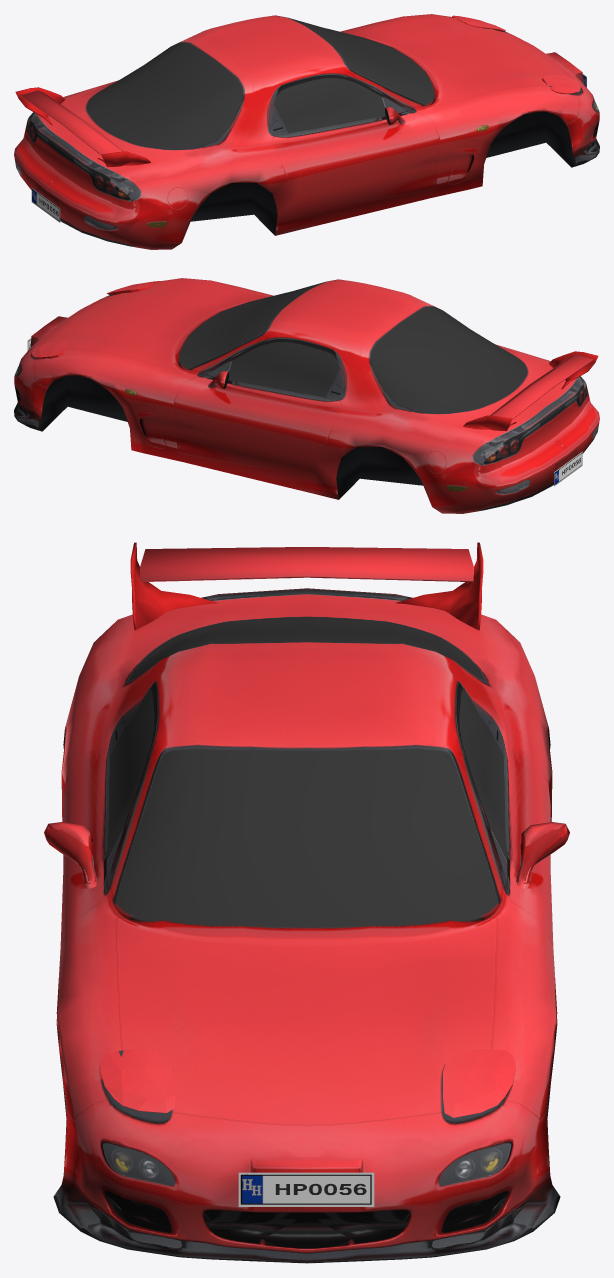
Rendered from car 12.fbx.
3 views of the same model, one above another, from view 1: azimuth 30°, elevation 25°; view 2: azimuth 150°, elevation 25°; view 3: azimuth 270°, elevation 25° (orthographic). The views are drawn at different scales.
Parts seen in each view (by area): view 1: body, font_light; view 2: body, fornt_light; view 3: body, fornt_light, font_light.
Part boxes in pixels (x1,y1,x2,y2): body: [14, 14, 599, 249]; font_light: [542, 75, 580, 93]; body: [14, 278, 599, 513]; fornt_light: [32, 341, 70, 358]; body: [44, 542, 569, 1263]; fornt_light: [443, 1049, 515, 1117]; font_light: [100, 1049, 175, 1112].
Bounding box in the file's own units: 2018 × 522 × 877.
1 material, 1 textured.
